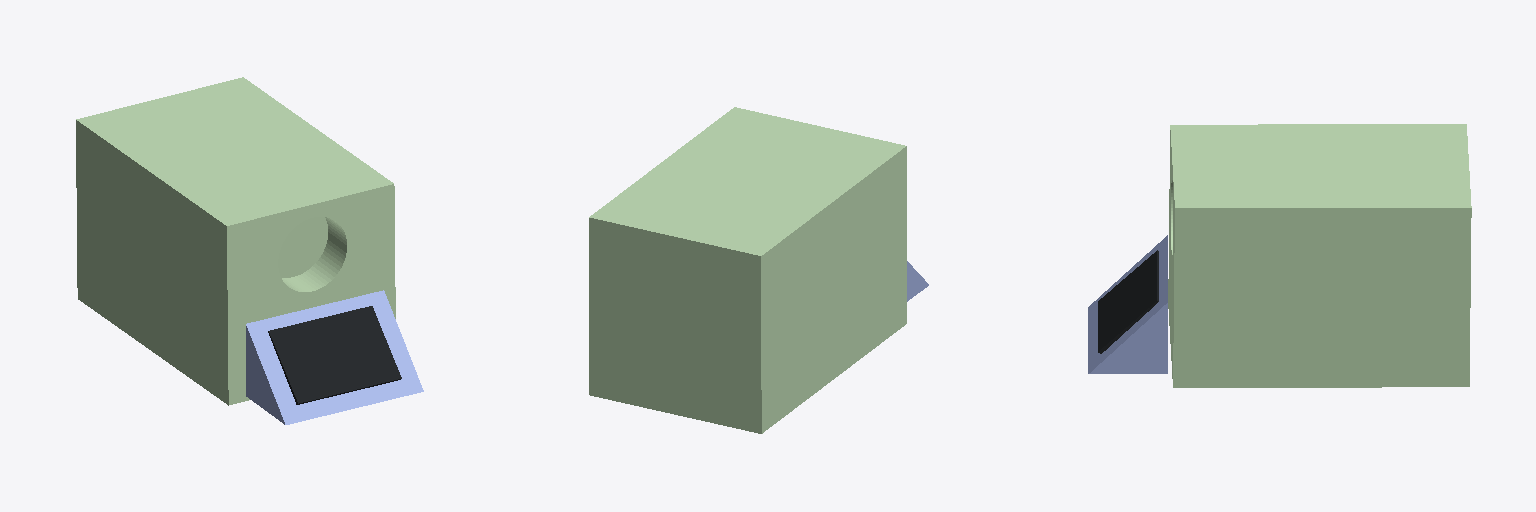
The model's file is tinker.obj.
The picture shows the model from 3 angles: view 1: azimuth 30°, elevation 25°; view 2: azimuth 150°, elevation 25°; view 3: azimuth 270°, elevation 25°; orthographic projection.
Visible parts, largest first — view 1: obj_0; view 2: obj_0; view 3: obj_0.
Part boxes in pixels (x1,y1,x2,y2): obj_0: (76,77,423,424); obj_0: (589,107,928,433); obj_0: (1088,124,1471,387).
Size of the model in its own units: 25.1 by 25 by 48.